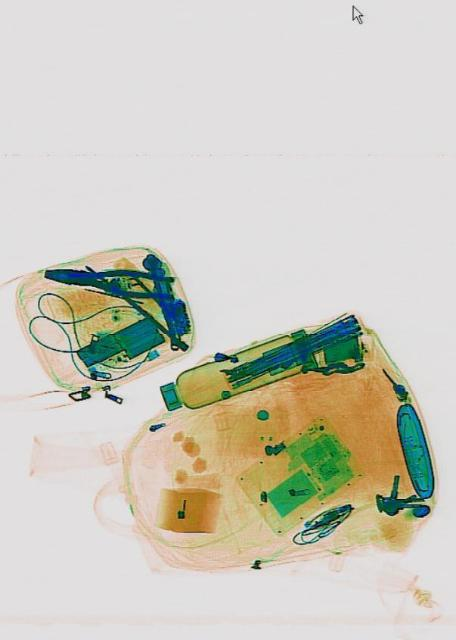Pliers: (42, 260, 173, 302)
